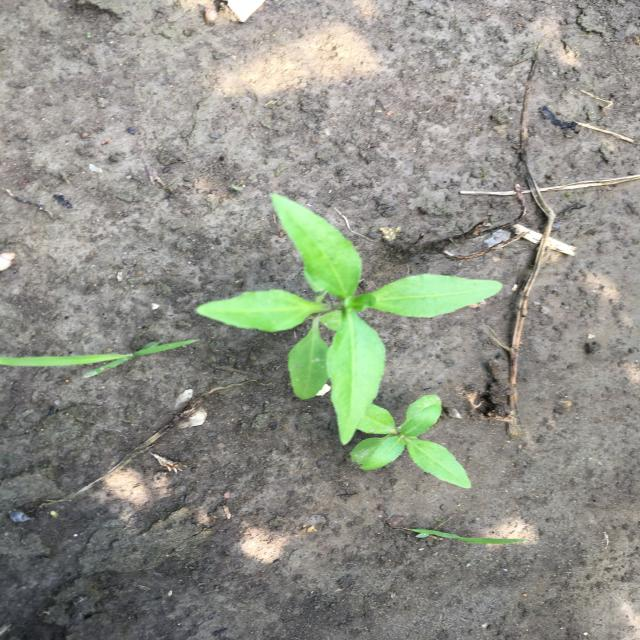Eclipta: (193, 192, 504, 445), (347, 393, 475, 490)
